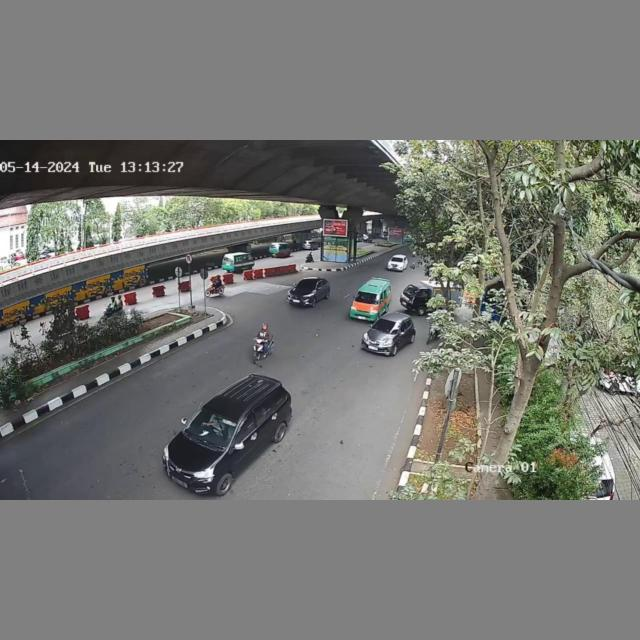windshield: (184, 406, 238, 447), (370, 319, 400, 337), (356, 292, 381, 305)
